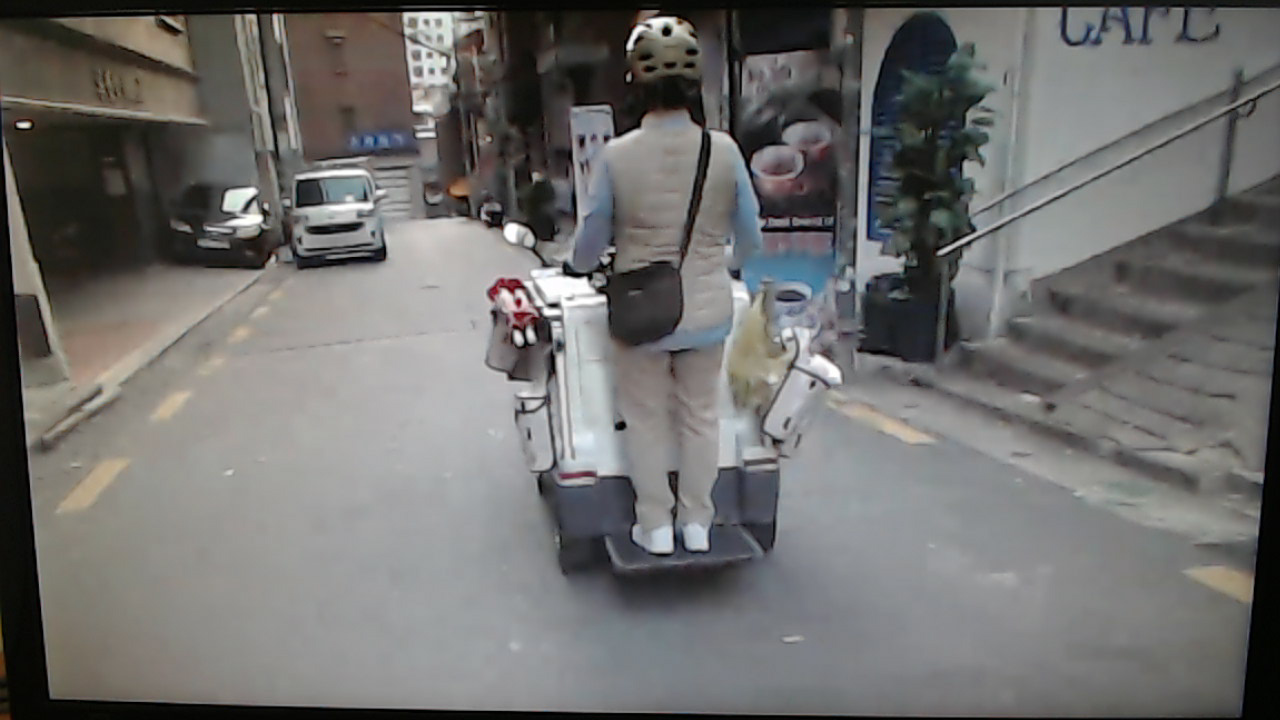Yakurut: (552, 16, 770, 575)
